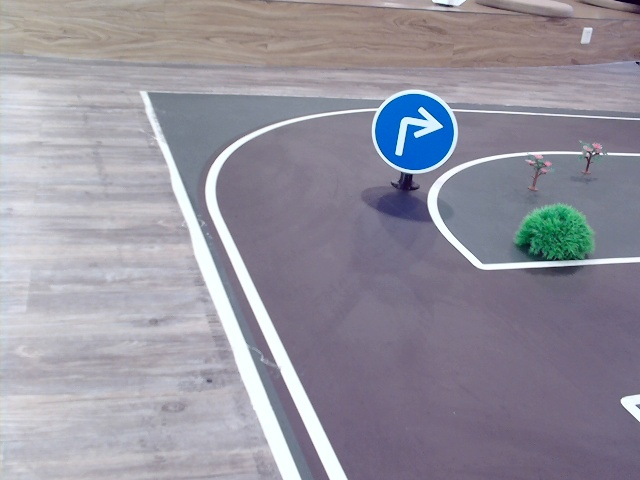turn_right: (394, 102, 441, 159)
